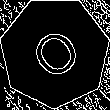O_SE: (23, 19, 87, 86)
